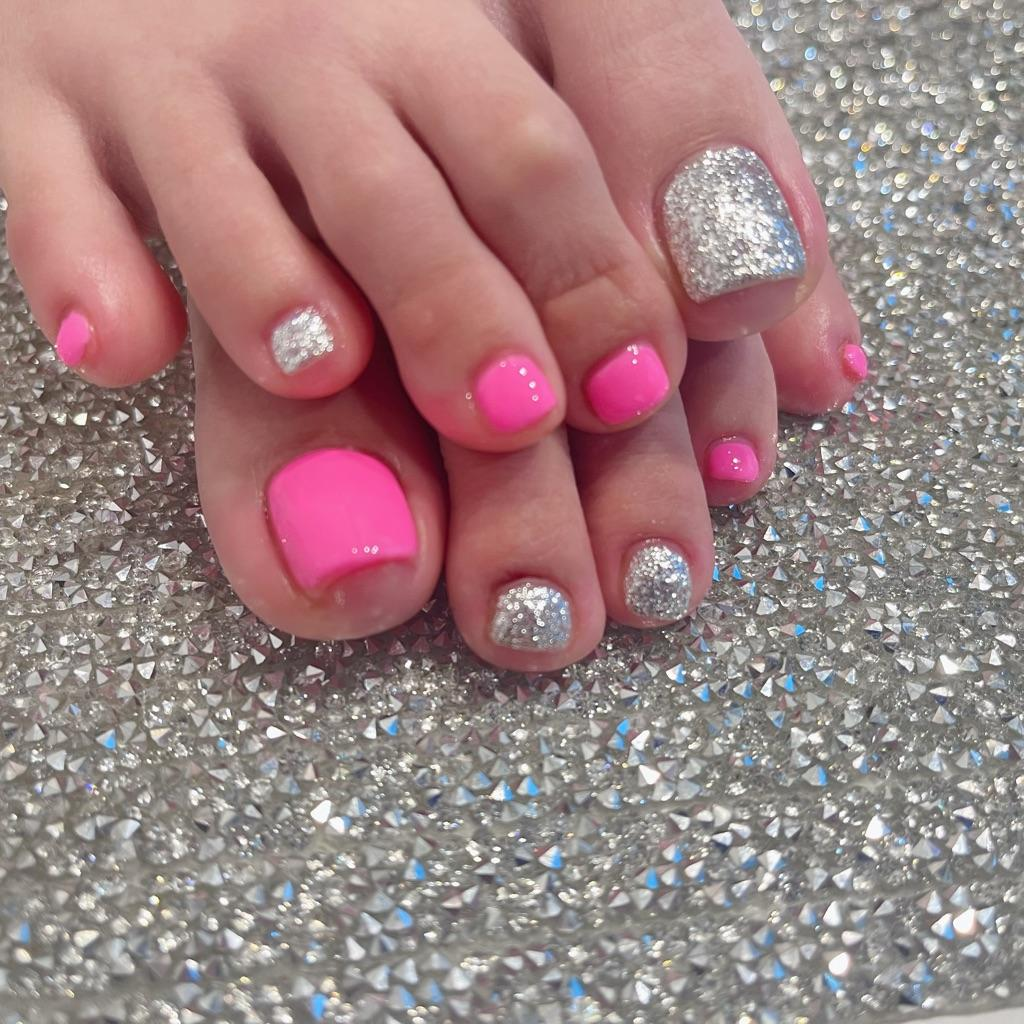nail: (654, 141, 807, 305), (263, 444, 420, 597), (580, 339, 670, 427), (471, 349, 556, 434), (617, 535, 694, 627), (486, 575, 574, 653), (268, 302, 334, 375), (53, 307, 95, 369), (705, 436, 759, 484), (839, 342, 868, 381)
